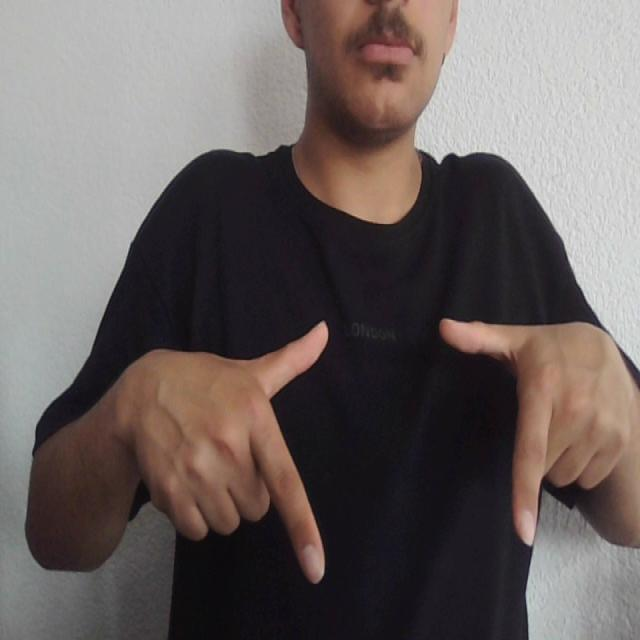Nerede: (236, 312, 563, 594)
